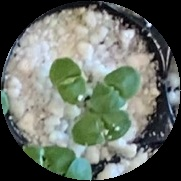Basil: (87, 67, 139, 117), (72, 111, 131, 147), (24, 148, 78, 177), (51, 58, 85, 100)
